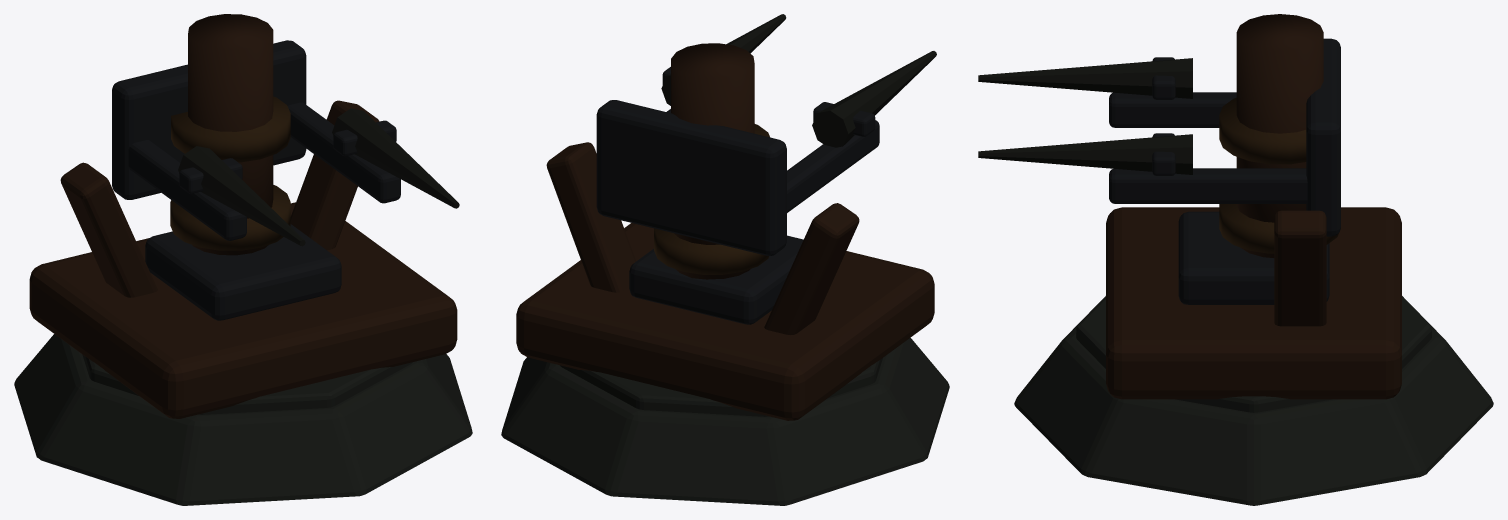
File: TowerAir1_pose.obj
3 views of the same model, side by side, from view 1: azimuth 30°, elevation 25°; view 2: azimuth 150°, elevation 25°; view 3: azimuth 270°, elevation 25° (orthographic). The views are drawn at different scales.
Visible parts, largest first — view 1: cut_stone_socket_lower_course, oak_sky_platform, iron_mast_socket, oak_launch_mast, iron_wind_shroud, oak_angled_stay, oak_angled_stay.001, cut_stone_socket_upper_course, iron_sky_rail, bronze_guide_collar.001, iron_sky_rail.001, sky_lance.001 (+4 smaller); view 2: cut_stone_socket_lower_course, oak_sky_platform, iron_wind_shroud, iron_mast_socket, oak_launch_mast, oak_angled_stay.001, oak_angled_stay, cut_stone_socket_upper_course, sky_lance, iron_sky_rail, bronze_guide_collar, sky_lance.001 (+1 smaller); view 3: cut_stone_socket_lower_course, oak_sky_platform, oak_launch_mast, iron_mast_socket, iron_sky_rail.001, oak_angled_stay.001, iron_wind_shroud, sky_lance, sky_lance.001, cut_stone_socket_upper_course, iron_sky_rail, bronze_guide_collar.001 (+3 smaller).
Boxes of the visible parts, <box> form: cut_stone_socket_lower_course: <box>14,334,472,505</box>; oak_sky_platform: <box>29,202,457,418</box>; iron_mast_socket: <box>145,224,341,320</box>; oak_launch_mast: <box>188,14,273,255</box>; iron_wind_shroud: <box>112,40,306,199</box>; oak_angled_stay: <box>60,162,157,297</box>; oak_angled_stay.001: <box>290,100,379,250</box>; cut_stone_socket_upper_course: <box>82,354,412,414</box>; iron_sky_rail: <box>128,140,246,240</box>; bronze_guide_collar.001: <box>171,96,290,162</box>; iron_sky_rail.001: <box>287,102,400,203</box>; sky_lance.001: <box>332,108,459,208</box>; cut_stone_socket_lower_course: <box>501,338,949,505</box>; oak_sky_platform: <box>516,223,934,420</box>; iron_wind_shroud: <box>596,100,786,255</box>; iron_mast_socket: <box>629,235,803,324</box>; oak_launch_mast: <box>671,43,754,279</box>; oak_angled_stay.001: <box>546,142,636,292</box>; oak_angled_stay: <box>764,203,859,334</box>; cut_stone_socket_upper_course: <box>560,358,882,416</box>; sky_lance: <box>812,51,936,147</box>; iron_sky_rail: <box>787,120,879,212</box>; bronze_guide_collar: <box>654,228,769,274</box>; sky_lance.001: <box>661,14,786,105</box>; cut_stone_socket_lower_course: <box>1014,296,1493,505</box>; oak_sky_platform: <box>1106,207,1401,399</box>; oak_launch_mast: <box>1236,14,1323,257</box>; iron_mast_socket: <box>1178,211,1329,304</box>; iron_sky_rail.001: <box>1109,168,1307,203</box>; oak_angled_stay.001: <box>1274,210,1326,326</box>; iron_wind_shroud: <box>1306,38,1340,236</box>; sky_lance: <box>978,58,1192,98</box>; sky_lance.001: <box>978,134,1192,174</box>; cut_stone_socket_upper_course: <box>1076,296,1431,412</box>; iron_sky_rail: <box>1109,92,1236,127</box>; bronze_guide_collar.001: <box>1219,97,1306,164</box>.
Size of the model in its own units: 1.65 by 1.42 by 1.78.
